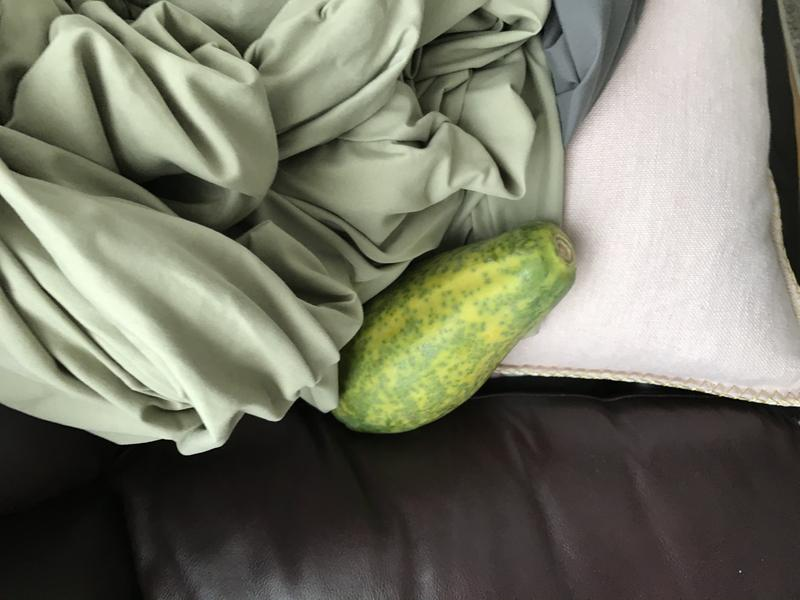papaya: (311, 216, 586, 441)
